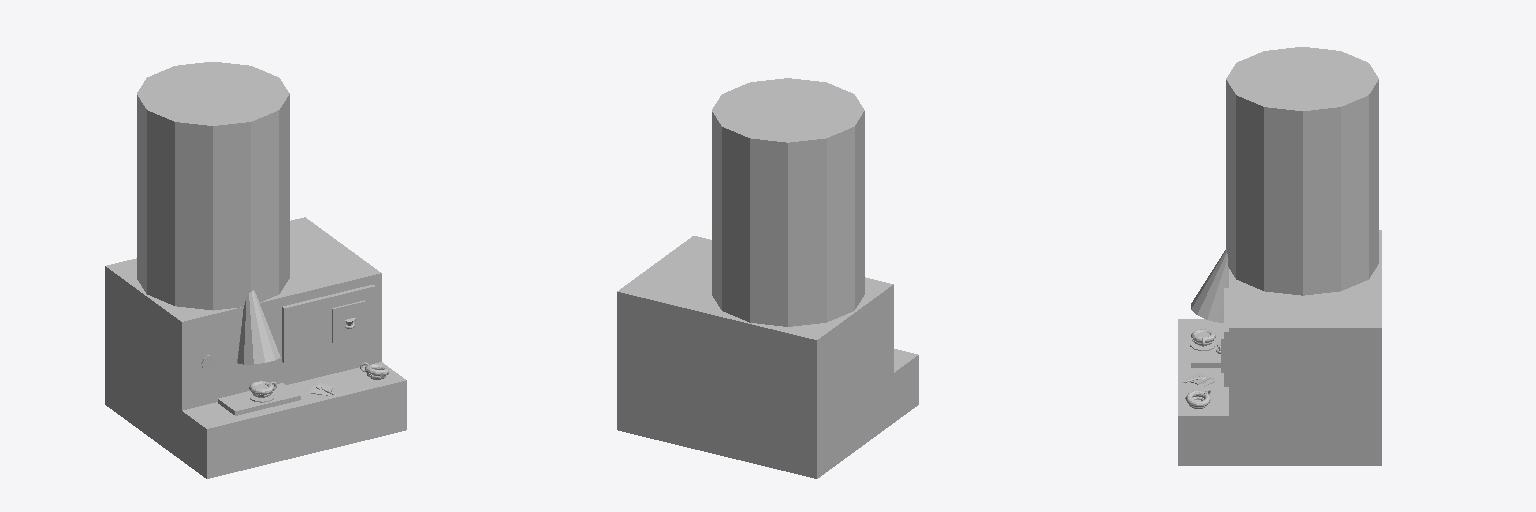
The model's file is TeaMachine.obj.
3 renders of one model, left to right at view 1: azimuth 30°, elevation 25°; view 2: azimuth 150°, elevation 25°; view 3: azimuth 270°, elevation 25°, orthographic.
Visible parts, largest first — view 1: group[number redacted], group[number redacted], group[number redacted], group[number redacted], group[number redacted], group[number redacted], group[number redacted], group[number redacted]; view 2: group[number redacted], group[number redacted], group[number redacted]; view 3: group[number redacted], group[number redacted], group[number redacted], group[number redacted], group[number redacted].
Part boxes in pixels (x1,y1,x2,y2): group[number redacted]: (137,62,289,310); group[number redacted]: (105,217,381,458); group[number redacted]: (180,362,406,478); group[number redacted]: (289,292,370,356); group[number redacted]: (237,290,280,364); group[number redacted]: (218,383,300,415); group[number redacted]: (282,285,375,312); group[number redacted]: (336,304,363,339); group[number redacted]: (617,236,893,478); group[number redacted]: (712,78,864,326); group[number redacted]: (894,349,918,422); group[number redacted]: (1226,47,1378,295); group[number redacted]: (1229,230,1381,465); group[number redacted]: (1178,319,1230,465); group[number redacted]: (1191,249,1228,322); group[number redacted]: (1191,331,1220,367).
Size of the model in its own units: 0.92 by 1.42 by 0.81.